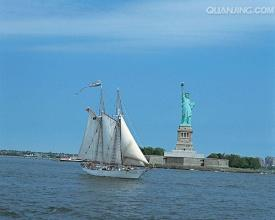fanchuan: (75, 88, 148, 180)
